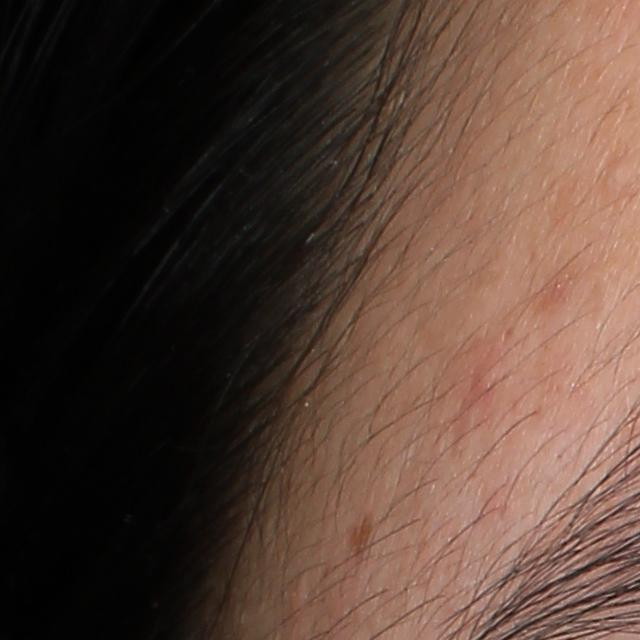comedo: (599, 156, 627, 187)
